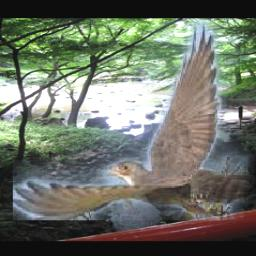Cuckoo: (13, 20, 256, 220)
